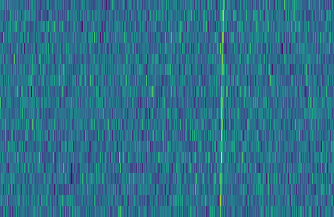signal: (216, 0, 228, 217)
